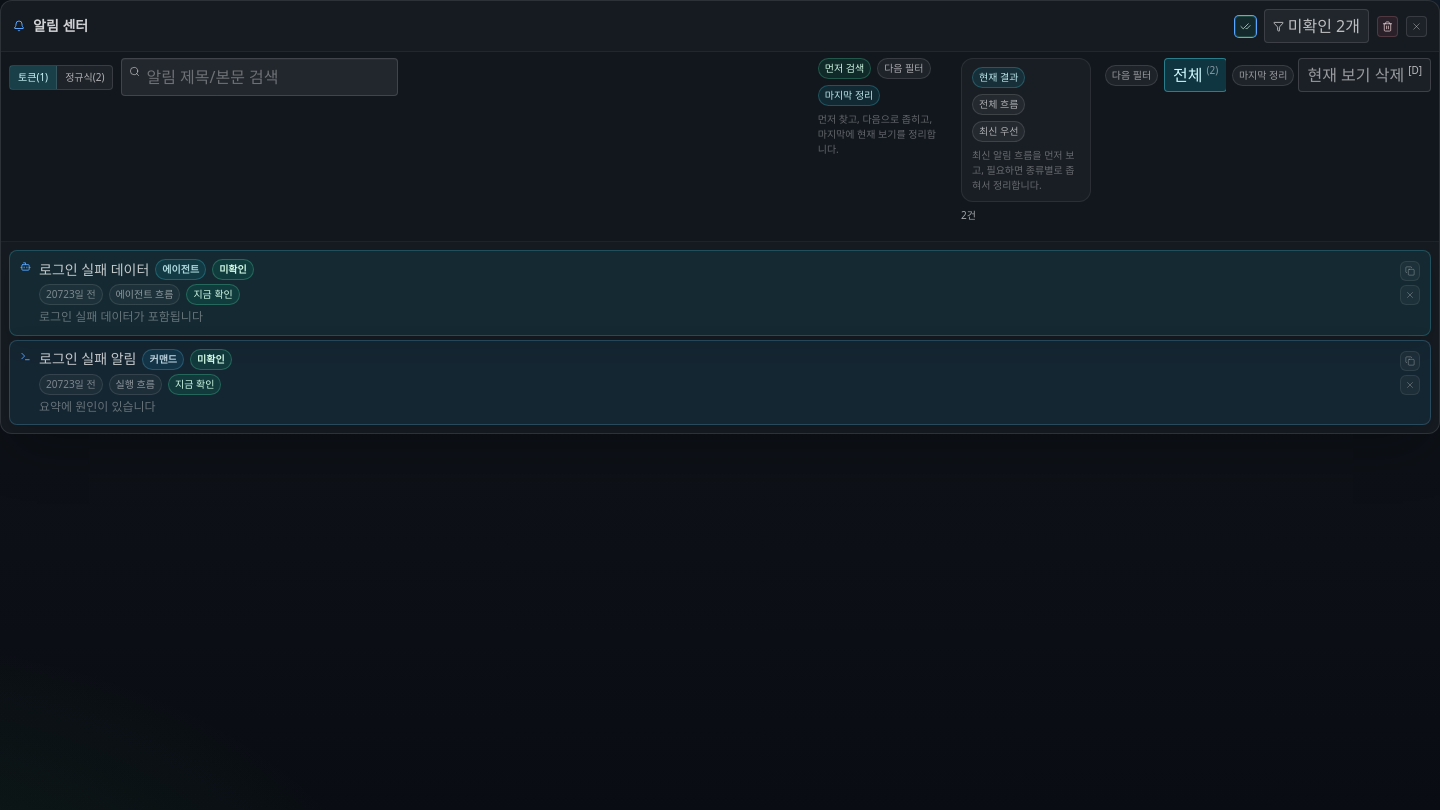
Test case: NotificationCenter › 부정 키워드(-키워드)로 검색 결과를 제외할 수 있다
In the field named "알림 검색": (260, 77) [122,58,398,96], type "\"로그인 실패\" -데이터"
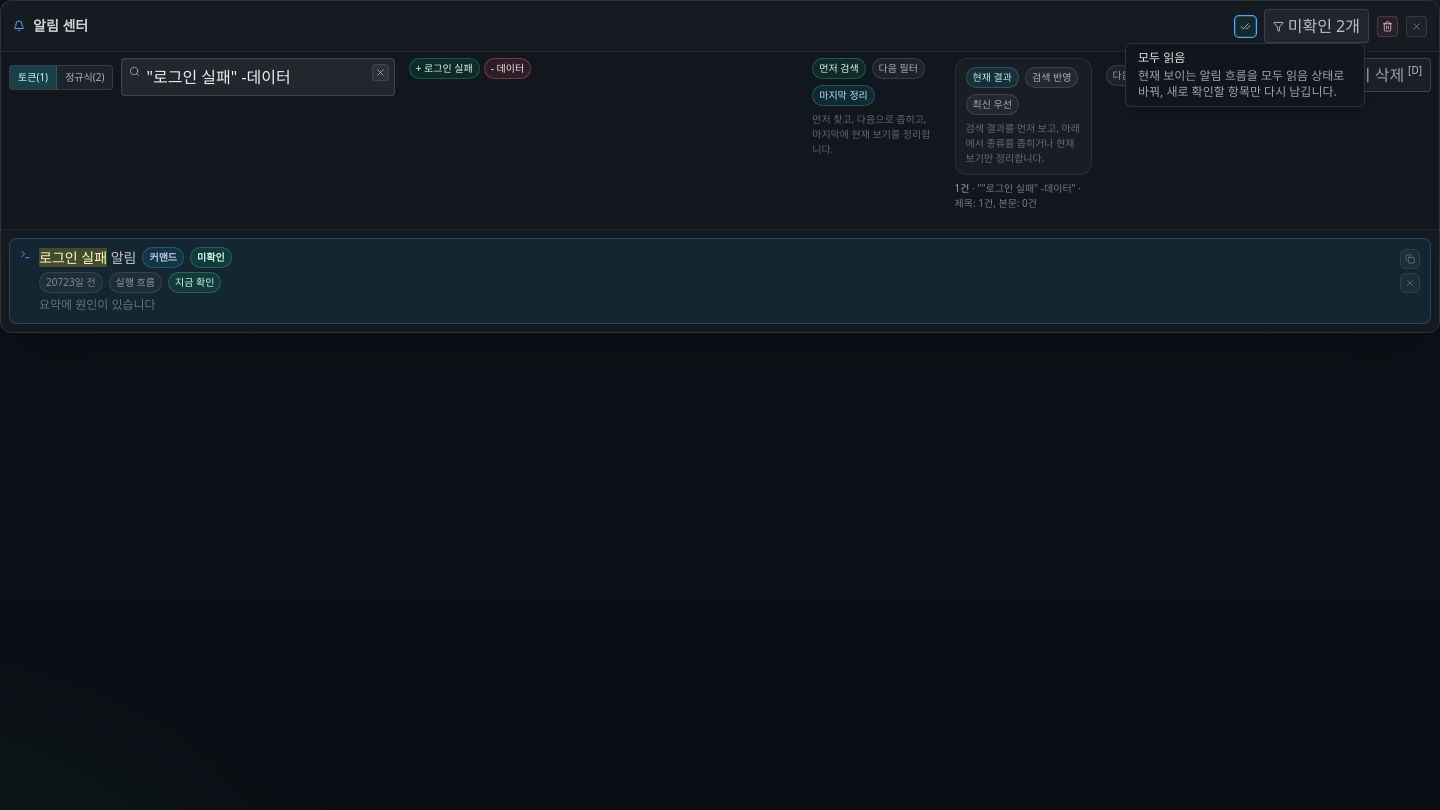
Check: the message shows "로그인 실패 알림", box [9,238,1431,324]
Check: the text "로그인 실패 데이터" is gone
